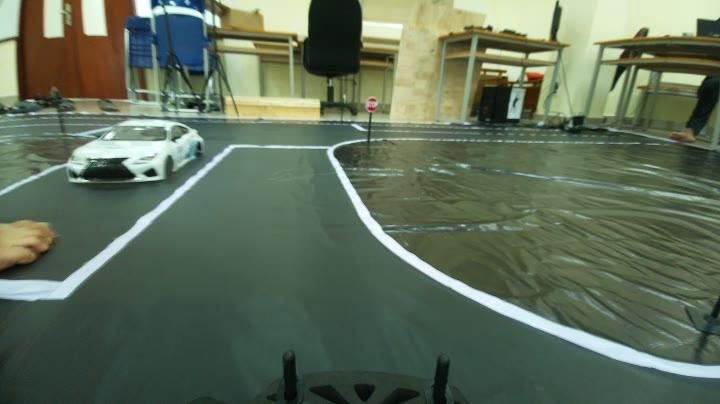stop: (62, 109, 212, 192), (362, 92, 380, 114)
